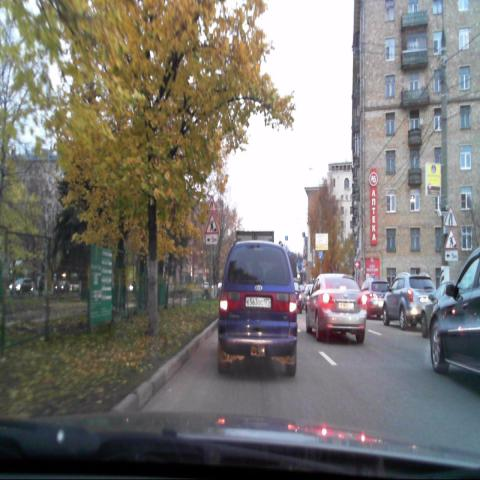1_20_3: (444, 205, 457, 227)
1_25: (444, 228, 458, 250)
